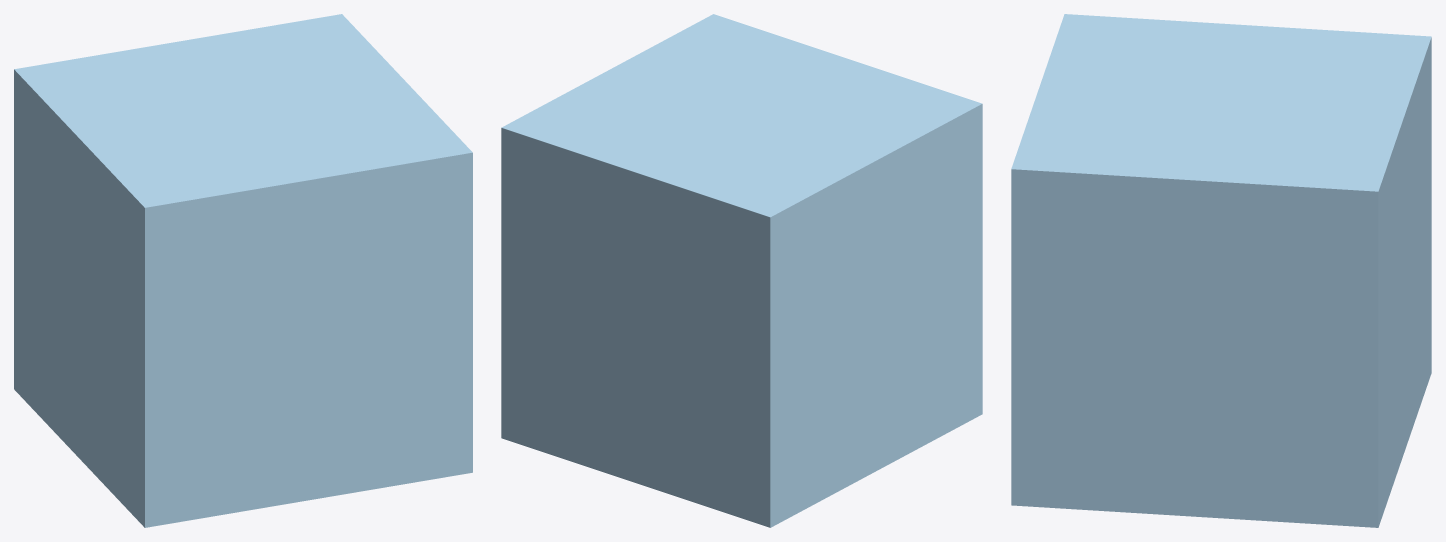
The model's file is Act1_Scene4_VRPlayerPlacement.fbx.
3 views of the same model, side by side, from view 1: azimuth 30°, elevation 25°; view 2: azimuth 150°, elevation 25°; view 3: azimuth 270°, elevation 25° (orthographic). The views are drawn at different scales.
Parts seen in each view (by area): view 1: VRPlayerPlacement; view 2: VRPlayerPlacement; view 3: VRPlayerPlacement.
Boxes of the visible parts, x1=… form: VRPlayerPlacement: x1=14, y1=14, x2=472, y2=527; VRPlayerPlacement: x1=501, y1=14, x2=982, y2=527; VRPlayerPlacement: x1=1011, y1=14, x2=1431, y2=527.
Size of the model in its own units: 135 by 119 by 135.
